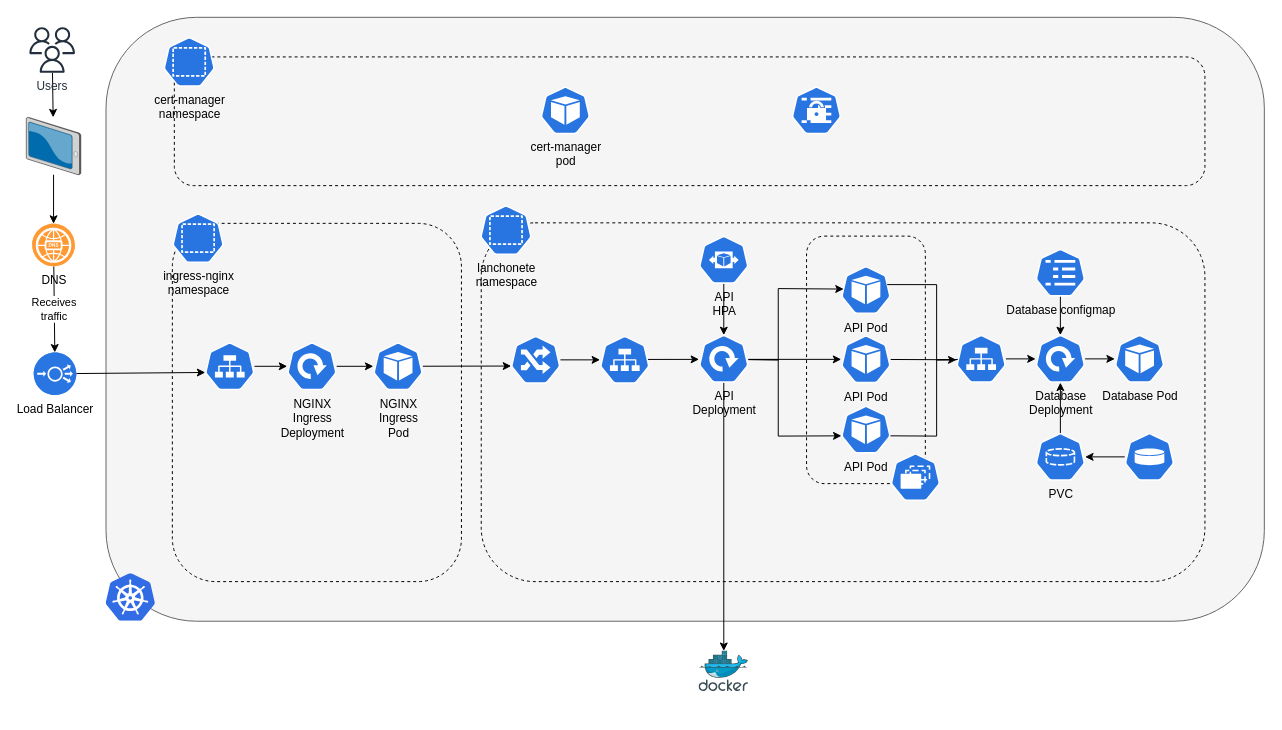
Image size: 1282x730. Some labels were removed from this diagram. Here are the shapes that lost their labels. From the top down, the centre of each, then its label:
[816,110]: certificate secret
[53,145]: Order totem
[229,366]: NGINX Ingress Service
[535,359]: Ingress
[624,359]: API Service
[980,358]: Database Service
[915,476]: Replicaset
[1149,456]: PV
[723,670]: Artifact registry
